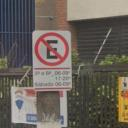NoEstacionar: (33, 30, 70, 67)
